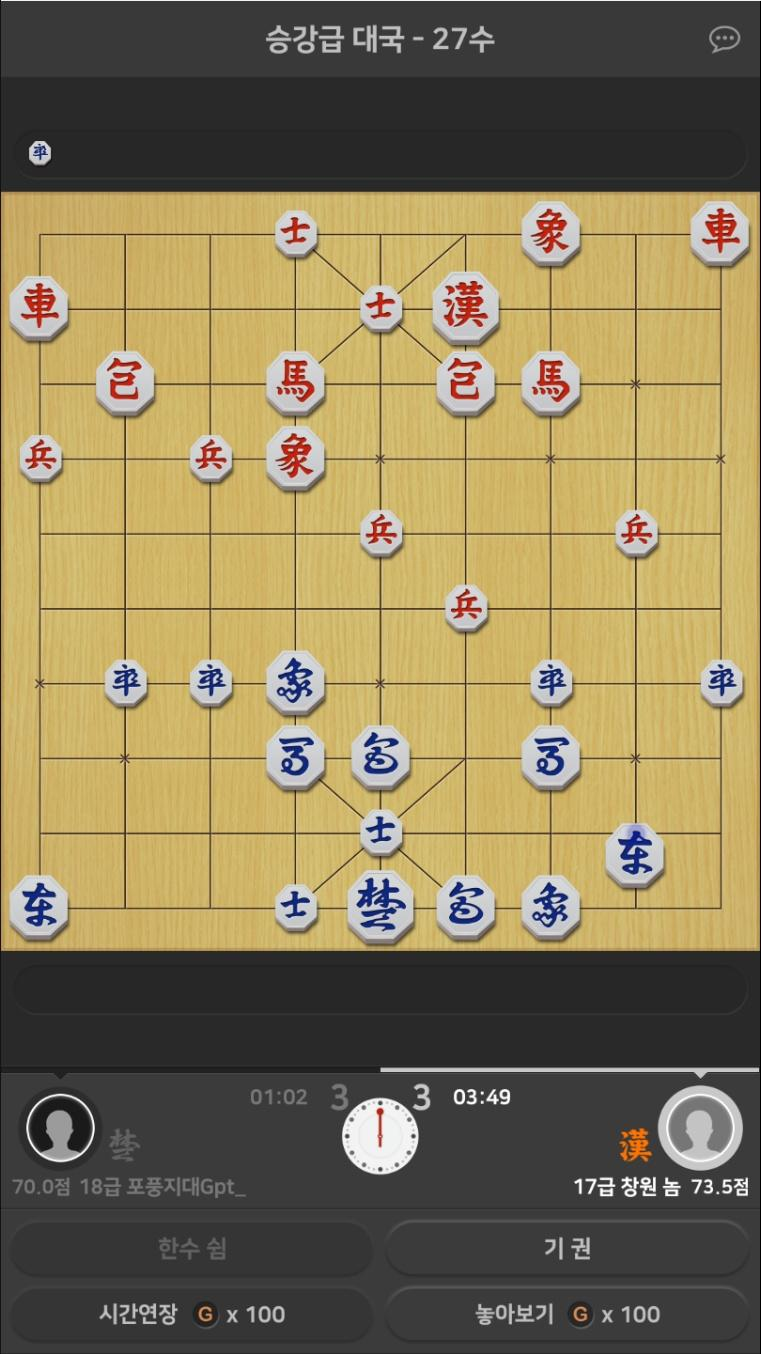cha_green: (605, 822, 667, 885), (11, 874, 69, 939)
cha_red: (688, 200, 753, 267), (10, 276, 70, 341)
jol_green: (528, 660, 576, 707), (700, 661, 745, 711), (105, 659, 150, 709), (188, 660, 231, 708), (252, 1086, 263, 1102)
jol_red: (21, 435, 62, 485), (191, 435, 232, 484), (446, 587, 487, 635), (616, 511, 656, 558), (362, 508, 401, 556)
ma_green: (522, 727, 582, 790), (266, 726, 321, 790)
ma_red: (269, 351, 325, 415), (524, 353, 578, 416)
po_green: (437, 875, 495, 936), (354, 728, 409, 791)
po_red: (93, 350, 155, 415), (436, 349, 497, 414)
sa_green: (272, 884, 317, 930), (358, 810, 405, 854)
sa_red: (276, 209, 316, 257), (362, 286, 402, 333)
sang_green: (522, 874, 583, 939), (267, 651, 322, 714)
sang_red: (521, 202, 580, 266), (266, 426, 324, 491)
wang_green: (347, 873, 415, 944)
wang_red: (431, 269, 500, 341)
